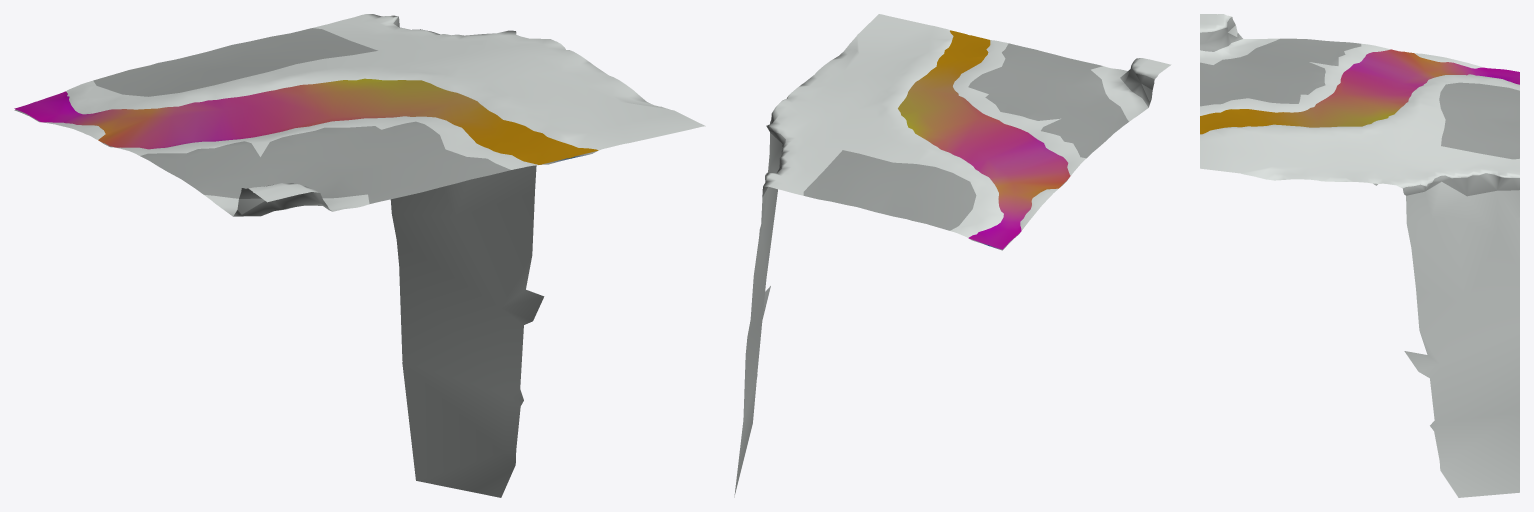
3 renders of one model, left to right at view 1: azimuth 30°, elevation 25°; view 2: azimuth 150°, elevation 25°; view 3: azimuth 270°, elevation 25°, orthographic. The views are drawn at different scales.
Parts seen in each view (by area): view 1: G:\FFXIV-MapTools\exports\r2f1\bg\ex1\01_roc_r2\fld\r2f1\bgp (×6); view 2: G:\FFXIV-MapTools\exports\r2f1\bg\ex1\01_roc_r2\fld\r2f1\bgp (×6); view 3: G:\FFXIV-MapTools\exports\r2f1\bg\ex1\01_roc_r2\fld\r2f1\bgp (×6).
Part boxes in pixels (x1=…): G:\FFXIV-MapTools\exports\r2f1\bg\ex1\01_roc_r2\fld\r2f1\bgp (×6): x1=14, y1=14, x2=705, y2=497; G:\FFXIV-MapTools\exports\r2f1\bg\ex1\01_roc_r2\fld\r2f1\bgp (×6): x1=734, y1=14, x2=1171, y2=497; G:\FFXIV-MapTools\exports\r2f1\bg\ex1\01_roc_r2\fld\r2f1\bgp (×6): x1=1200, y1=14, x2=1519, y2=497.
Size of the model in its own units: 128 by 157 by 128.
